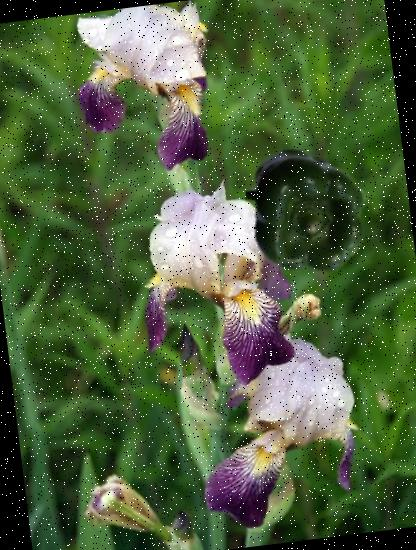Pepper: (235, 141, 378, 283)
